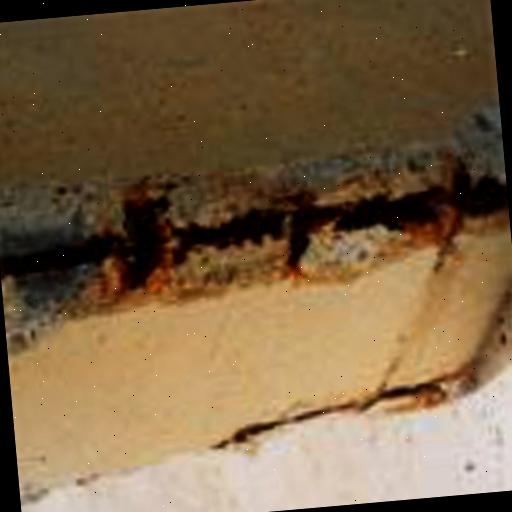spalling: (0, 144, 512, 315)
